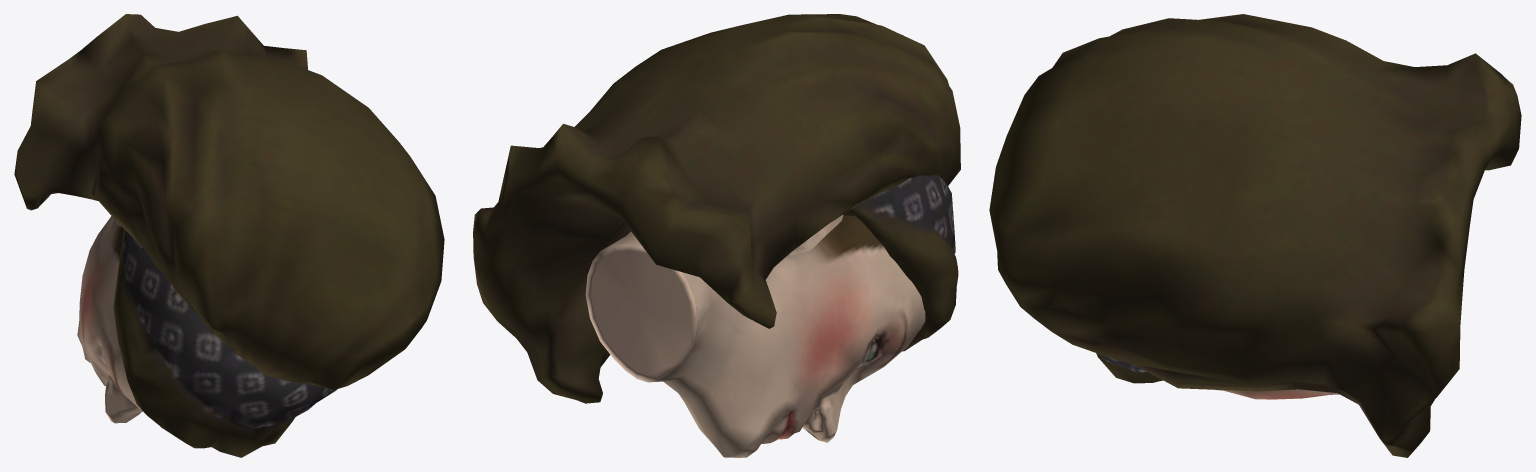
The model's file is dest_nt_nuked_female_01_head_LOD0.obj.
3 views of the same model, side by side, from view 1: azimuth 30°, elevation 25°; view 2: azimuth 150°, elevation 25°; view 3: azimuth 270°, elevation 25° (orthographic). The views are drawn at different scales.
Visible parts, largest first — view 1: mtl_nt_2020_manne_fem01_hair1, mtl_nt_2020_manne_fem01_head1; view 2: mtl_nt_2020_manne_fem01_hair1, mtl_nt_2020_manne_fem01_head1; view 3: mtl_nt_2020_manne_fem01_hair1, mtl_nt_2020_manne_fem01_head1.
Boxes of the visible parts, x1=… form: mtl_nt_2020_manne_fem01_hair1: x1=14, y1=14, x2=444, y2=457; mtl_nt_2020_manne_fem01_head1: x1=77, y1=216, x2=142, y2=423; mtl_nt_2020_manne_fem01_hair1: x1=473, y1=14, x2=960, y2=403; mtl_nt_2020_manne_fem01_head1: x1=585, y1=215, x2=925, y2=457; mtl_nt_2020_manne_fem01_hair1: x1=989, y1=14, x2=1521, y2=457; mtl_nt_2020_manne_fem01_head1: x1=1214, y1=389, x2=1339, y2=399.
Size of the model in its own units: 27.67 by 26.17 by 32.9.
